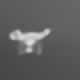plane: (7, 27, 55, 57)
